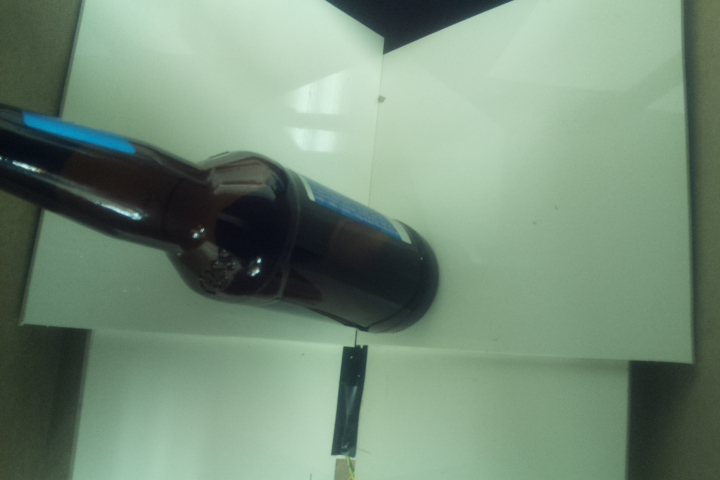makju: (1, 98, 441, 335)
